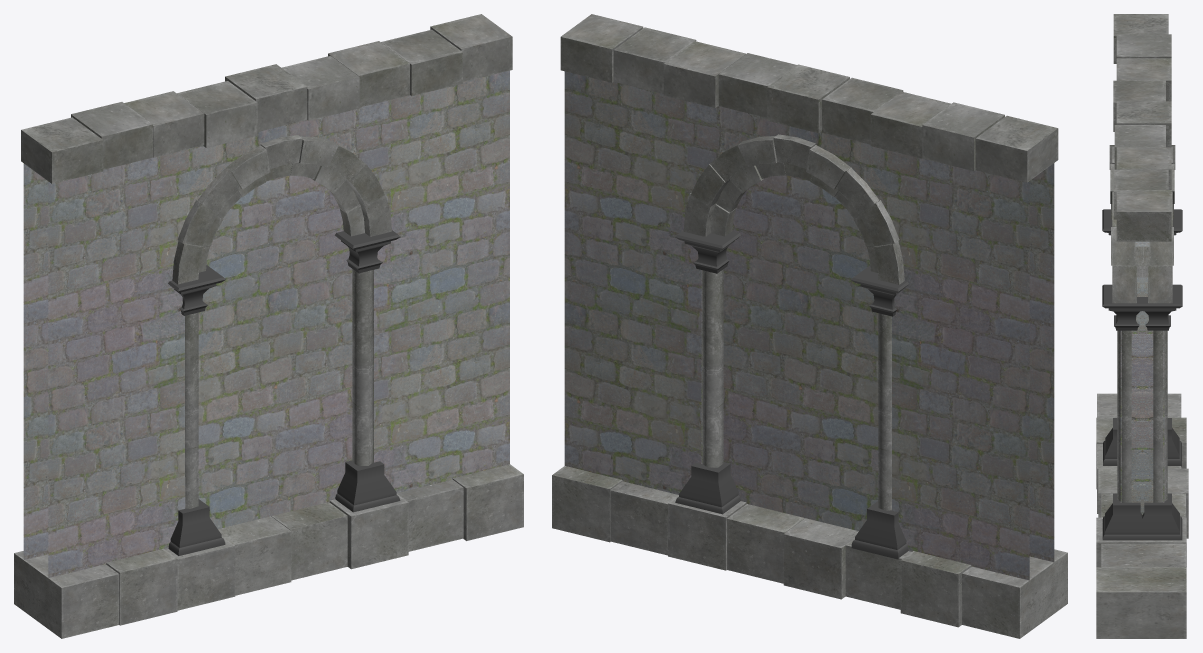
File: SM_wall_modular_05.fbx
The picture shows the model from 3 angles, left to right: view 1: azimuth 30°, elevation 25°; view 2: azimuth 150°, elevation 25°; view 3: azimuth 270°, elevation 25°; orthographic projection. The views are drawn at different scales.
Visible parts, largest first — view 1: DarkFantasyObject46; view 2: DarkFantasyObject46; view 3: DarkFantasyObject46.
Boxes of the visible parts, x1,y1,x2,y2 form: DarkFantasyObject46: (14, 14, 523, 638); DarkFantasyObject46: (552, 14, 1067, 638); DarkFantasyObject46: (1096, 14, 1188, 638).
Size of the model in its own units: 197 by 196 by 38.56.
